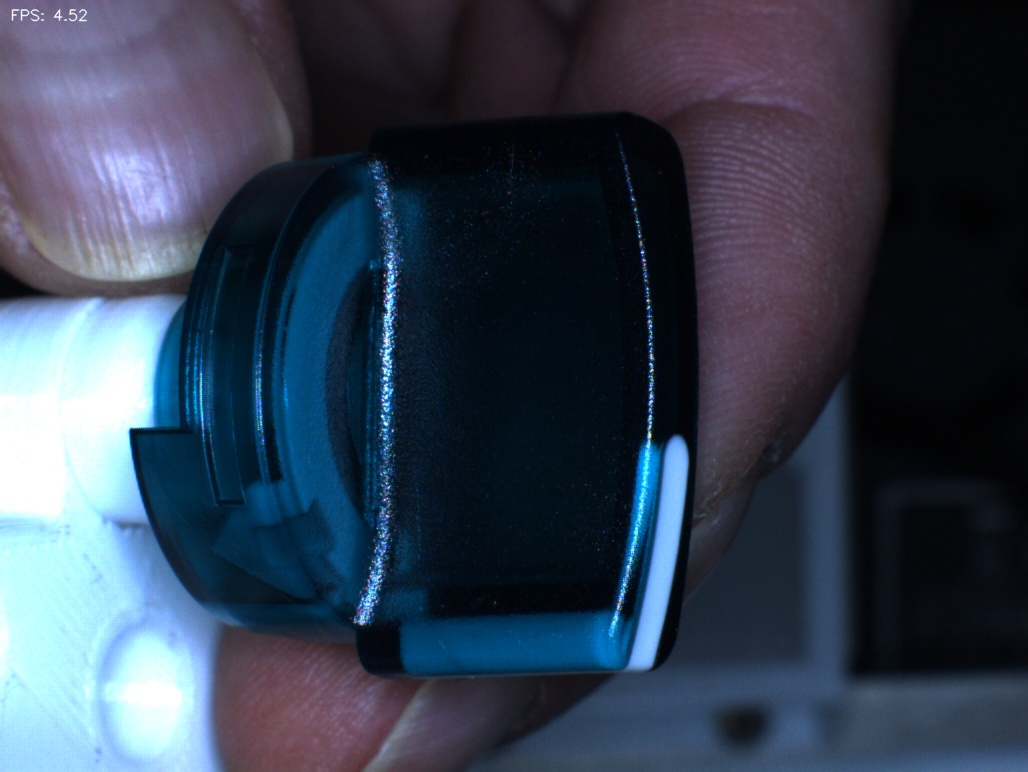Givrage: (474, 133, 545, 238), (392, 451, 447, 577)
